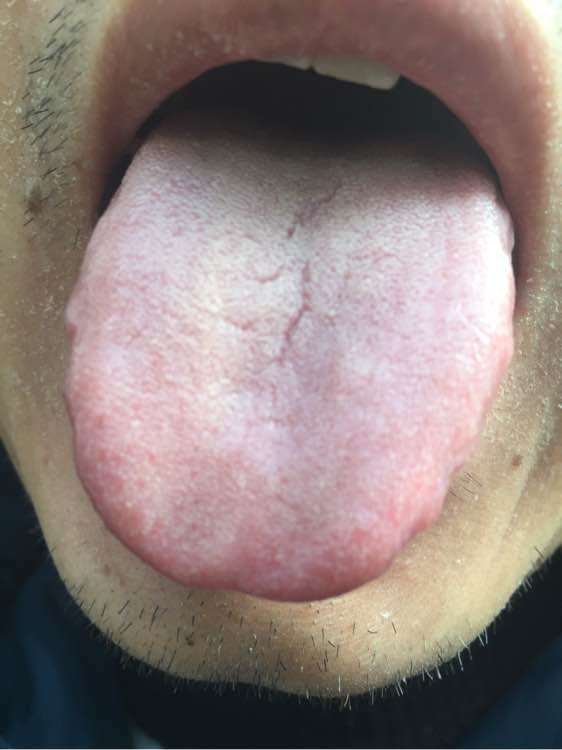baitaishe: (63, 98, 516, 602)
chihenshe: (395, 346, 515, 563), (64, 310, 84, 480)
liewenshe: (243, 181, 344, 368)
